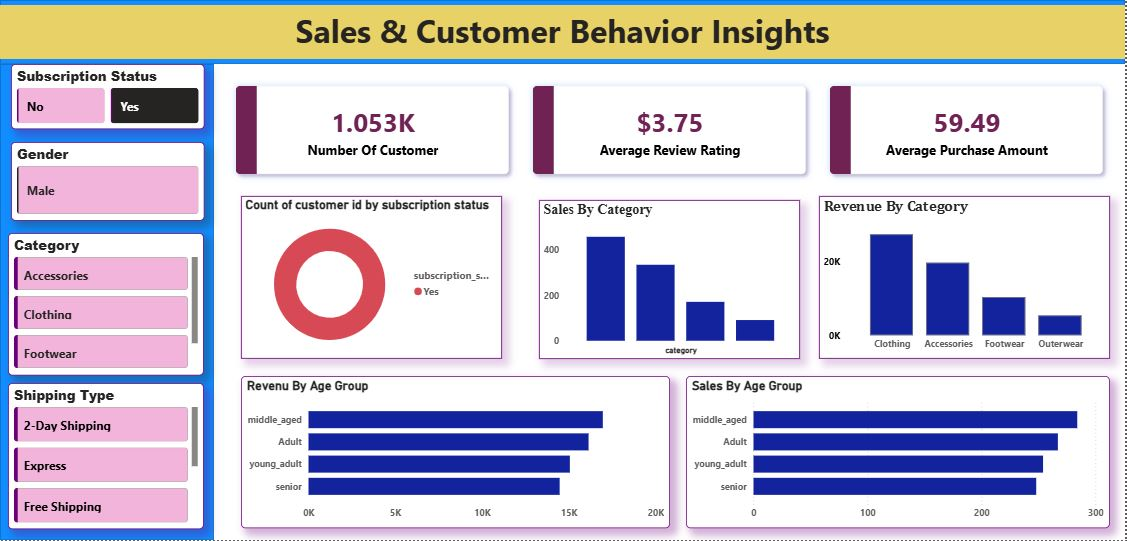

Layout of this report page (visuals, bound fields, positions):
{"tool":"powerbi","page":{"name":"Page 1","canvas":[1500,720],"ordinal":0},"visuals":[{"type":"cardVisual","fields":{"Data":["customer_behavior customer.Number Of Customer","customer_behavior customer.Average Review Rating","customer_behavior customer.Average Purchase Amount"]},"box":[285,85,1215,176.7],"z":0},{"type":"shape","title":"hbjhj","box":[0,0,1500,85],"z":1000},{"type":"textbox","box":[0,6.7,1500,71.7],"z":2000},{"type":"shape","box":[0,85,285,635],"z":3000},{"type":"donutChart","title":"Count of customer id by subscription status","fields":{"Y":["CountNonNull(customer_behavior customer.customer_id)"],"Category":["customer_behavior customer.subscription_status"]},"box":[321.7,261.7,348.3,216.7],"z":4000},{"type":"clusteredColumnChart","title":"Sales By Category","fields":{"Y":["CountNonNull(customer_behavior customer.customer_id)"],"Category":["customer_behavior customer.category"]},"box":[718.3,266.7,348.3,211.7],"z":5000},{"type":"clusteredColumnChart","title":"Revenue By Category","fields":{"Y":["Sum(customer_behavior customer.purchase_amount)"],"Category":["customer_behavior customer.category"]},"box":[1091.7,261.7,388.3,216.7],"z":6000},{"type":"clusteredBarChart","title":"Revenu By Age Group","fields":{"Y":["Sum(customer_behavior customer.purchase_amount)"],"Category":["customer_behavior customer.age_group"]},"box":[321.7,501.7,571.7,203.3],"z":7000},{"type":"clusteredBarChart","title":"Sales By Age Group","fields":{"Y":["CountNonNull(customer_behavior customer.customer_id)"],"Category":["customer_behavior customer.age_group"]},"box":[915,501.7,565,203.3],"z":8000},{"type":"advancedSlicerVisual","title":"Subscription Status","fields":{"Values":["customer_behavior customer.subscription_status"]},"box":[14.5,85.5,258.1,87.1],"z":9000},{"type":"advancedSlicerVisual","title":"Gender","fields":{"Values":["customer_behavior customer.gender"]},"box":[14.5,188.7,258.1,104.8],"z":10000},{"type":"advancedSlicerVisual","title":"Category","fields":{"Values":["customer_behavior customer.category"]},"box":[11.3,311.3,261.3,190.3],"z":11000},{"type":"advancedSlicerVisual","title":"Shipping Type","fields":{"Values":["customer_behavior customer.shipping_type"]},"box":[10.7,510.7,261.3,194.7],"z":12000}]}

Visuals, with their boxes in screenshot pixels (x1, y1, x2, y2), scaled from the page's 1500x720 canvas onto the 1127x541 screenshot:
cardVisual - customer_behavior customer.Number Of Customer x customer_behavior customer.Average Review Rating: [214, 64, 1126, 197]
"hbjhj" shape: [0, 0, 1126, 64]
textbox: [0, 5, 1126, 59]
shape: [0, 64, 214, 540]
"Count of customer id by subscription status" donutChart: [242, 197, 503, 359]
"Sales By Category" clusteredColumnChart: [540, 200, 801, 359]
"Revenue By Category" clusteredColumnChart: [820, 197, 1112, 359]
"Revenu By Age Group" clusteredBarChart: [242, 377, 671, 530]
"Sales By Age Group" clusteredBarChart: [687, 377, 1112, 530]
"Subscription Status" advancedSlicerVisual: [11, 64, 205, 130]
"Gender" advancedSlicerVisual: [11, 142, 205, 221]
"Category" advancedSlicerVisual: [8, 234, 205, 377]
"Shipping Type" advancedSlicerVisual: [8, 384, 204, 530]
